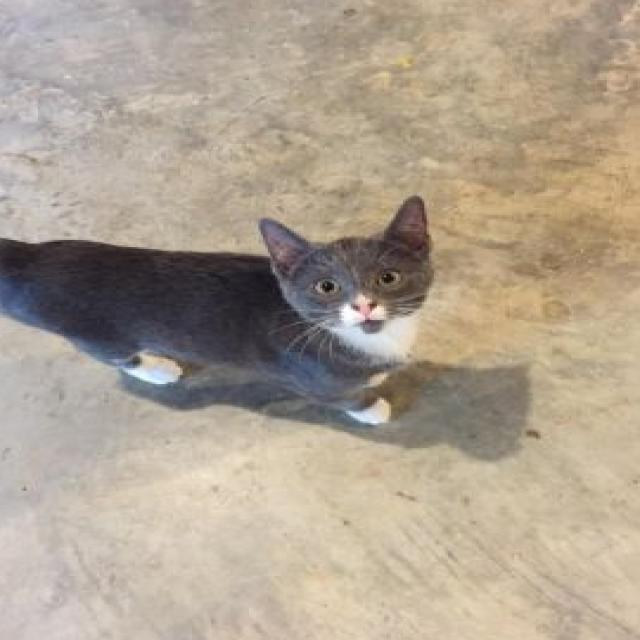American Bobtail: (0, 190, 441, 430)
